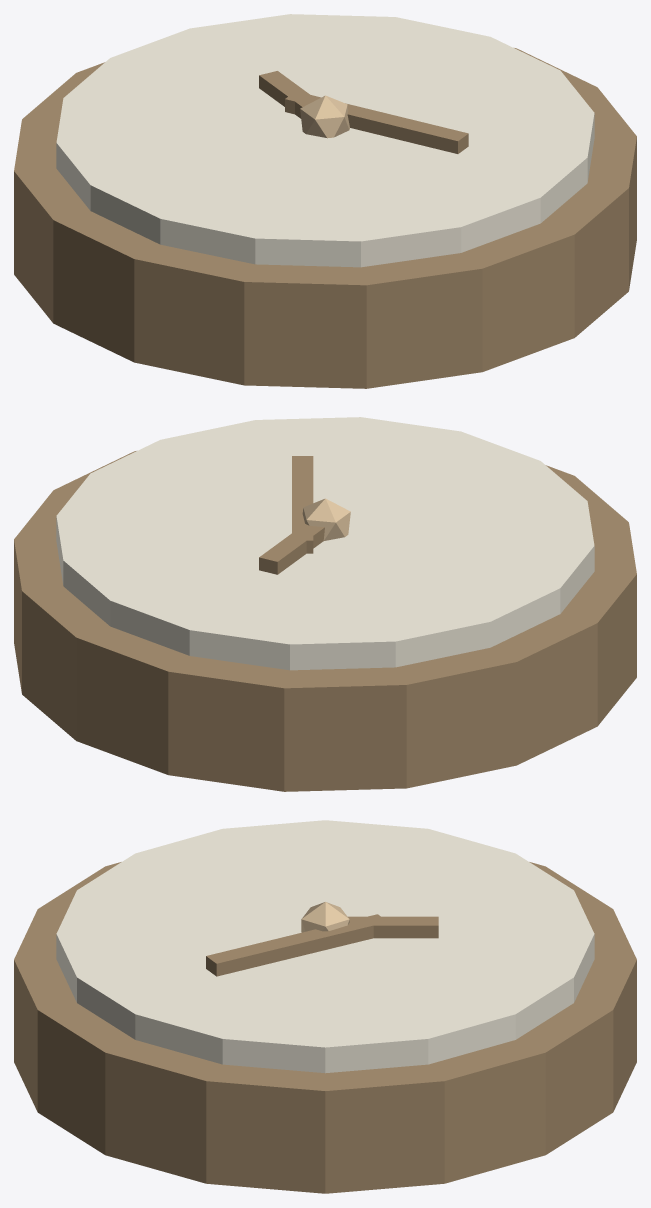
Rendered from 18-Casas_decor_reloj_pared.glb.
3 views of the same model, one above another, from view 1: azimuth 30°, elevation 25°; view 2: azimuth 150°, elevation 25°; view 3: azimuth 270°, elevation 25° (orthographic).
Parts seen in each view (by area): view 1: SM_RelojP_Esfera, SM_RelojP_Caja, SM_RelojP_Minuto, SM_RelojP_Centro, SM_RelojP_Hora; view 2: SM_RelojP_Esfera, SM_RelojP_Caja, SM_RelojP_Minuto, SM_RelojP_Hora, SM_RelojP_Centro; view 3: SM_RelojP_Esfera, SM_RelojP_Caja, SM_RelojP_Minuto, SM_RelojP_Hora, SM_RelojP_Centro.
Boxes of the visible parts, x1,y1,x2,y2 form: SM_RelojP_Esfera: [56, 14, 594, 267]; SM_RelojP_Caja: [14, 48, 636, 388]; SM_RelojP_Minuto: [285, 95, 468, 153]; SM_RelojP_Centro: [300, 95, 349, 138]; SM_RelojP_Hora: [259, 71, 316, 118]; SM_RelojP_Esfera: [56, 417, 594, 670]; SM_RelojP_Caja: [14, 451, 636, 791]; SM_RelojP_Minuto: [292, 456, 313, 553]; SM_RelojP_Hora: [259, 526, 324, 574]; SM_RelojP_Centro: [302, 498, 350, 540]; SM_RelojP_Esfera: [56, 820, 594, 1073]; SM_RelojP_Caja: [14, 862, 636, 1193]; SM_RelojP_Minuto: [206, 914, 387, 976]; SM_RelojP_Hora: [348, 916, 438, 938]; SM_RelojP_Centro: [301, 902, 349, 932].
Bounding box in the file's own units: 0.44 × 0.125 × 0.44.
